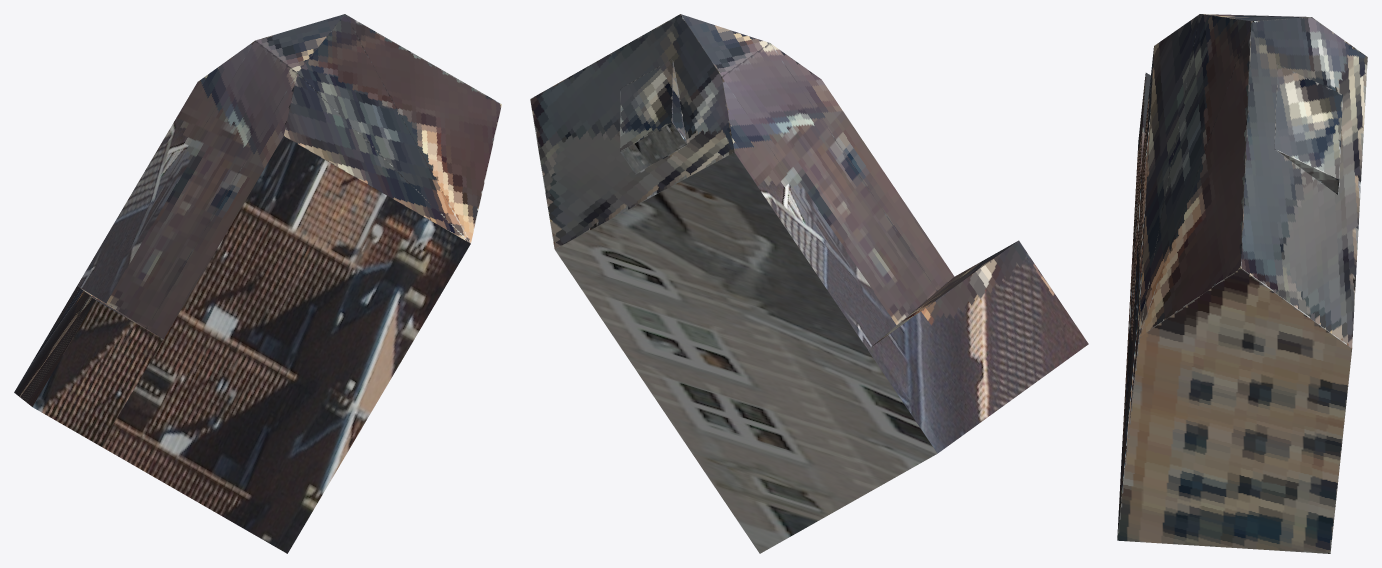
3 renders of one model, left to right at view 1: azimuth 30°, elevation 25°; view 2: azimuth 150°, elevation 25°; view 3: azimuth 270°, elevation 25°, orthographic. The views are drawn at different scales.
Visible parts, largest first — view 1: BAG_0599100000760362 (×6); view 2: BAG_0599100000760362 (×6); view 3: BAG_0599100000760362 (×6).
Part boxes in pixels (x1=…): BAG_0599100000760362 (×6): x1=14, y1=14, x2=501, y2=553; BAG_0599100000760362 (×6): x1=530, y1=14, x2=1088, y2=553; BAG_0599100000760362 (×6): x1=1117, y1=14, x2=1367, y2=553.
Bounding box in the file's own units: 20.88 × 18.88 × 7.15.
1 material, 1 textured.
